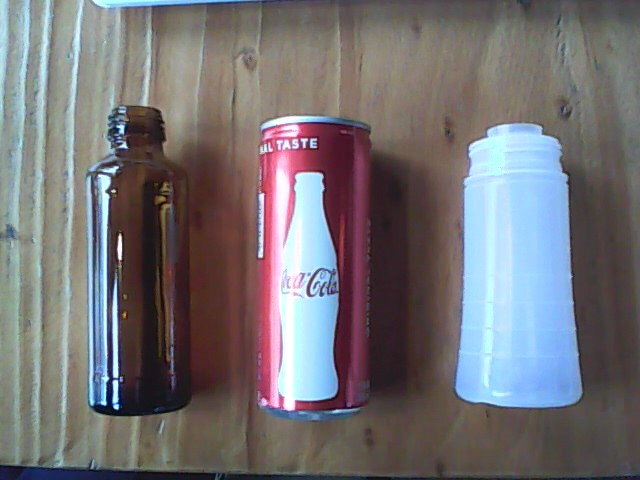Can: (242, 103, 380, 427)
Glass: (80, 93, 198, 422)
Plastic: (446, 119, 591, 417)
